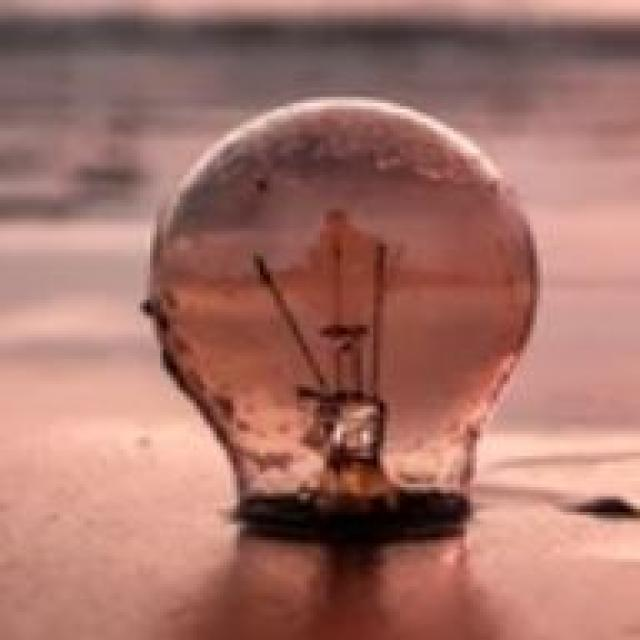electronic: (140, 94, 540, 540)
